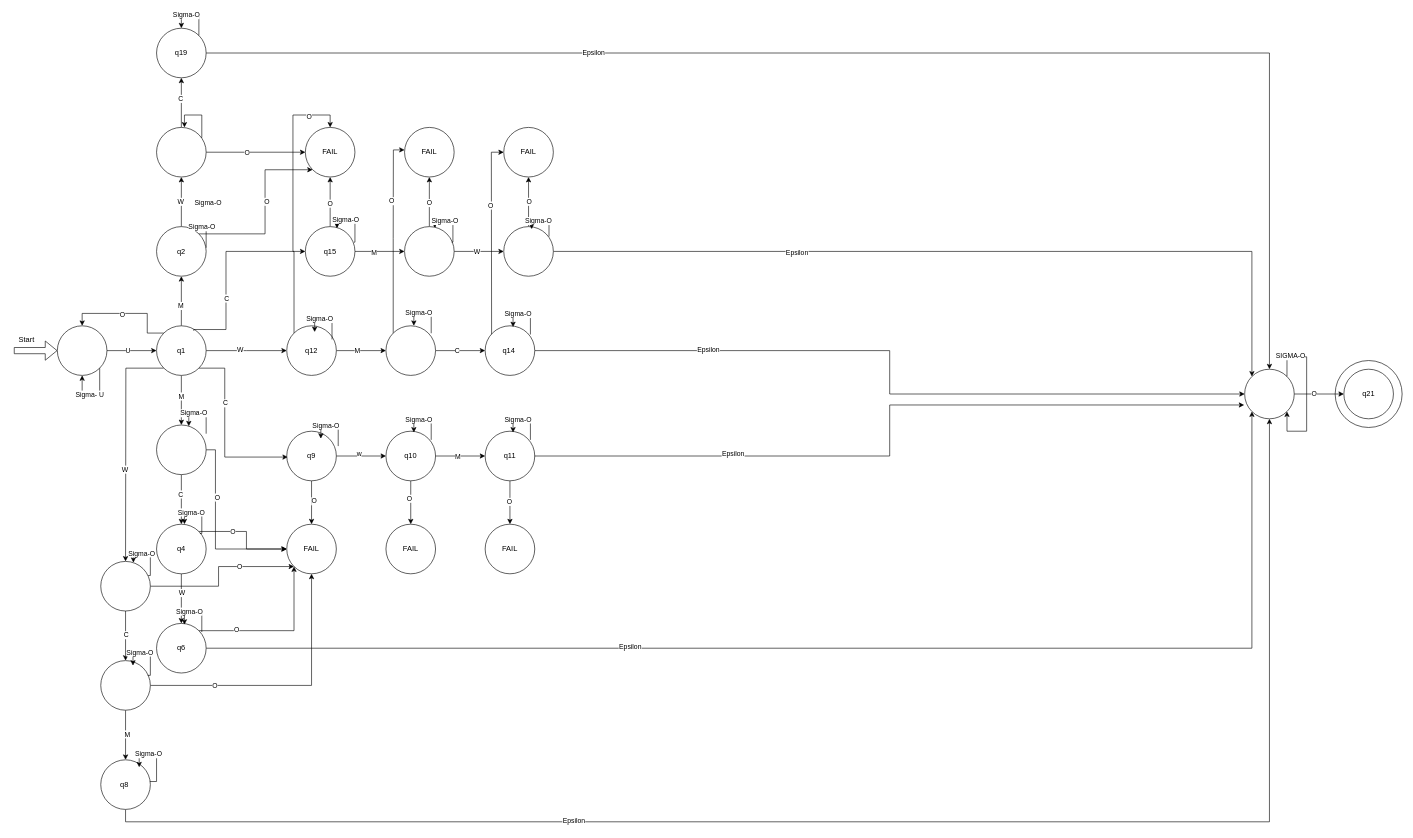
This 1413x838 diagram has some shape labels left out. Here are the shapes that lost their labels. From the top down, the centre of each, then its label:
At pixel 181 152: "q18".
At pixel 429 251: "q16".
At pixel 528 251: "q17".
At pixel 82 350: "q0".
At pixel 410 350: "q13".
At pixel 1269 394: "q20".
At pixel 181 449: "q3".
At pixel 125 586: "q5".
At pixel 125 685: "q7".
